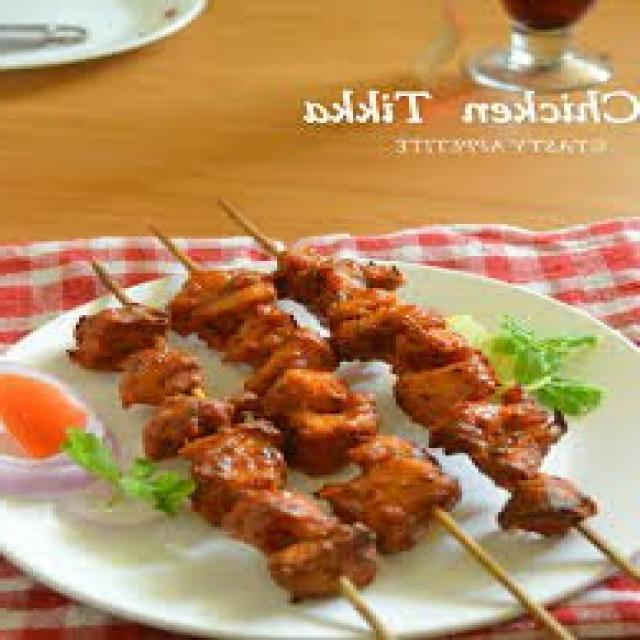Chicken Tikka: (68, 247, 600, 606)
